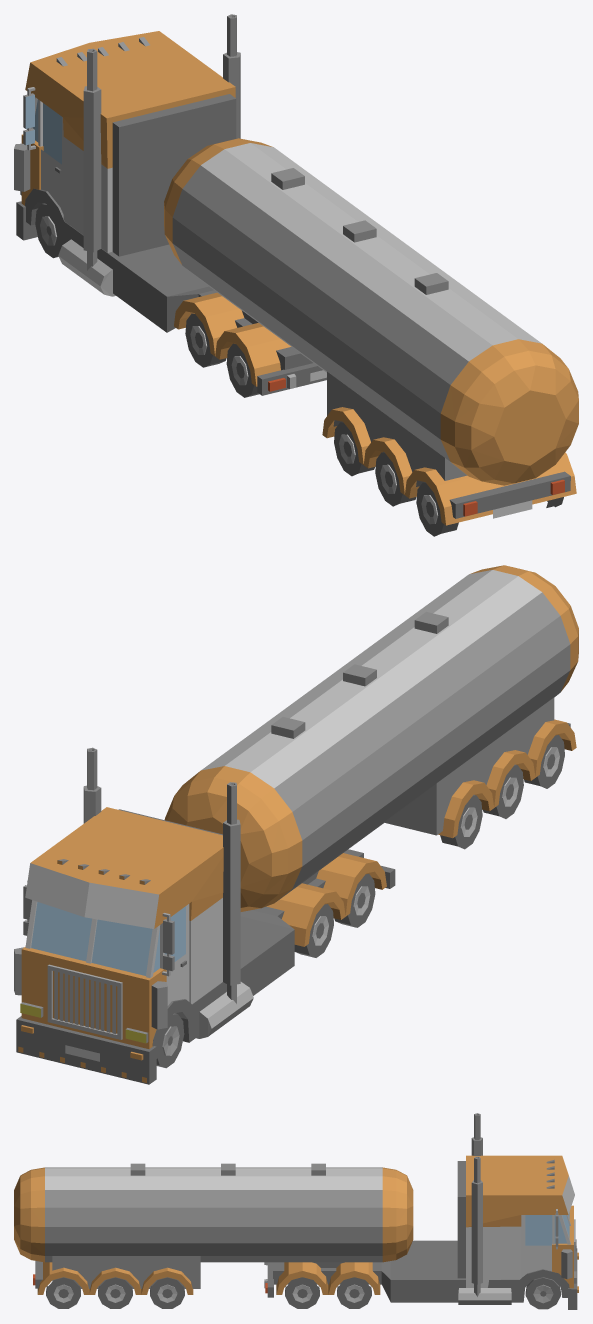
Rendered from truck.glb.
3 views of the same model, one above another, from view 1: azimuth 30°, elevation 25°; view 2: azimuth 150°, elevation 25°; view 3: azimuth 270°, elevation 25° (orthographic). The views are drawn at different scales.
Parts seen in each view (by area): view 1: New_Game_Object_mat0_0.001; view 2: New_Game_Object_mat0_0.001; view 3: New_Game_Object_mat0_0.001.
Part boxes in pixels (x1,y1,x2,y2): New_Game_Object_mat0_0.001: (14,14,578,536); New_Game_Object_mat0_0.001: (14,565,578,1084); New_Game_Object_mat0_0.001: (14,1113,578,1309).
Size of the model in its own units: 2.69 by 4.02 by 13.33.
